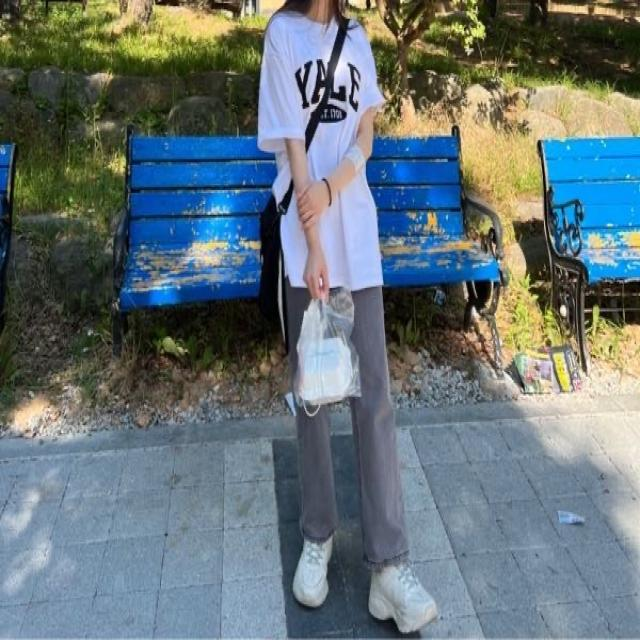denimpants: (298, 278, 414, 566)
shortsleeve: (263, 5, 394, 290)
